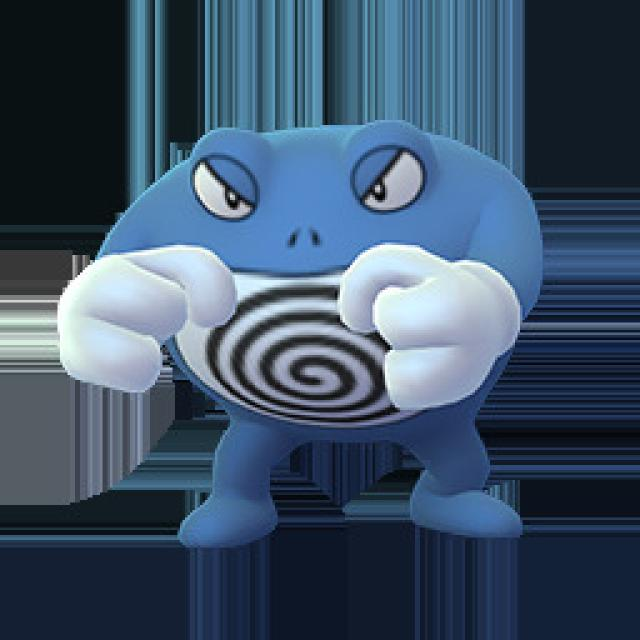Poliwrath: (70, 120, 530, 540)
